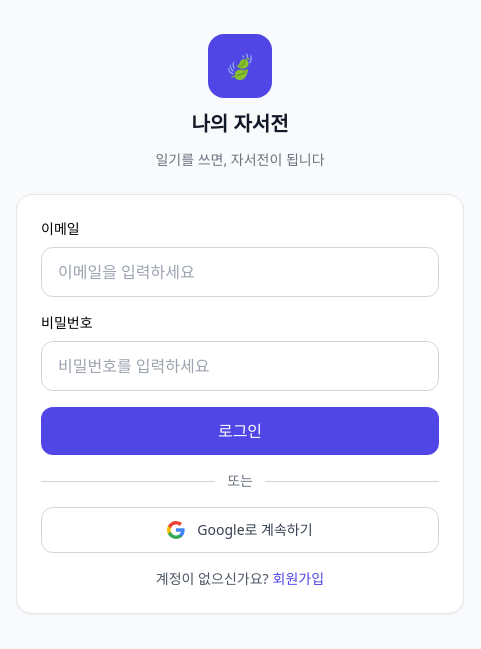
Scenario: Login Page - Redirect Flow › Failed login › should not redirect when network error occurs
In the field with test id "email-input": coordinates (240, 272) [41,247,439,297], type "test@example.com"
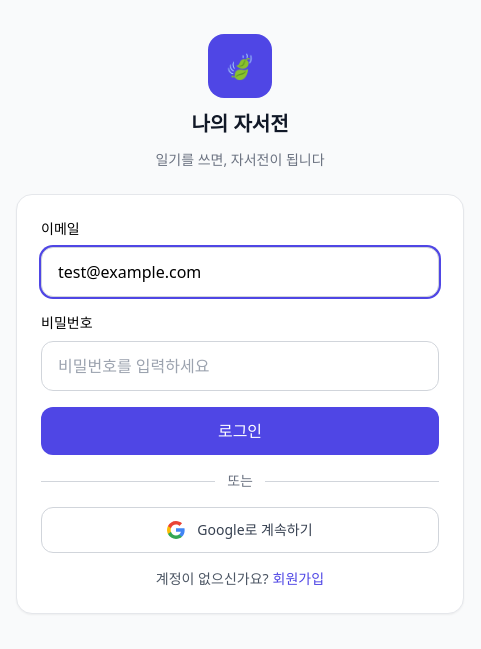
In the password field with test id "password-input": coordinates (240, 366) [41,341,439,391], type "password"
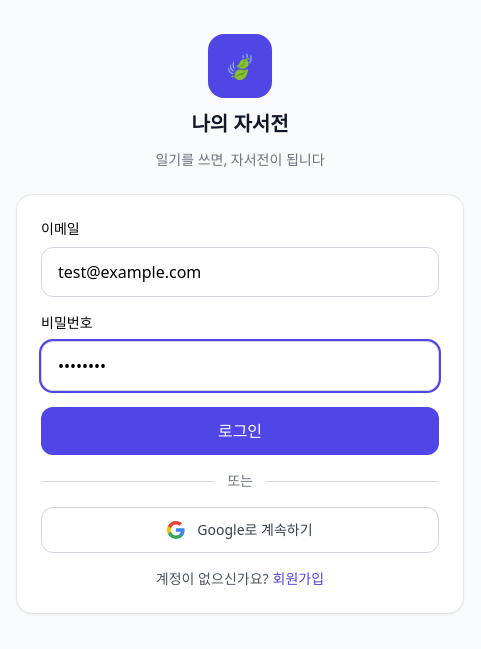
Click the button with test id "submit-button": coordinates (240, 431) [41,407,439,455]
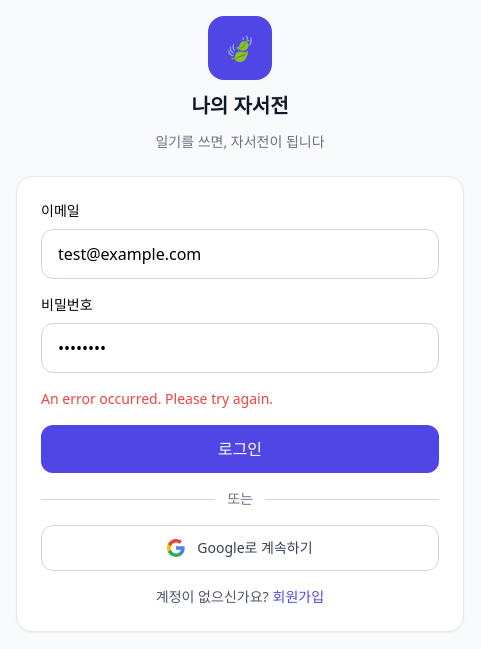
Expected: the message "An error occurred. Please try again." is shown, [41,389,273,408]
